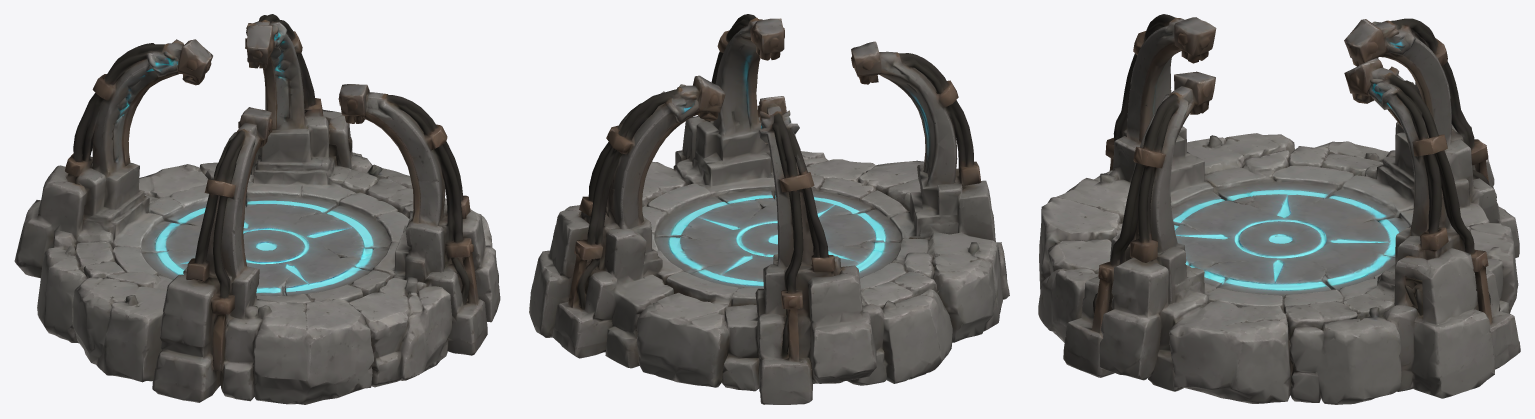
Rendered from floor_receiver.glb.
3 views of the same model, side by side, from view 1: azimuth 30°, elevation 25°; view 2: azimuth 150°, elevation 25°; view 3: azimuth 270°, elevation 25° (orthographic). The views are drawn at different scales.
Visible parts, largest first — view 1: tripo_node_2851dd84-262e-4d70-be11-29699a627f32; view 2: tripo_node_2851dd84-262e-4d70-be11-29699a627f32; view 3: tripo_node_2851dd84-262e-4d70-be11-29699a627f32.
Part boxes in pixels (x1,y1,x2,y2): tripo_node_2851dd84-262e-4d70-be11-29699a627f32: (14, 14, 500, 404); tripo_node_2851dd84-262e-4d70-be11-29699a627f32: (529, 14, 1009, 404); tripo_node_2851dd84-262e-4d70-be11-29699a627f32: (1038, 14, 1520, 404).
Size of the model in its own units: 1 by 0.5984 by 0.9769.
1 material, 1 textured.
